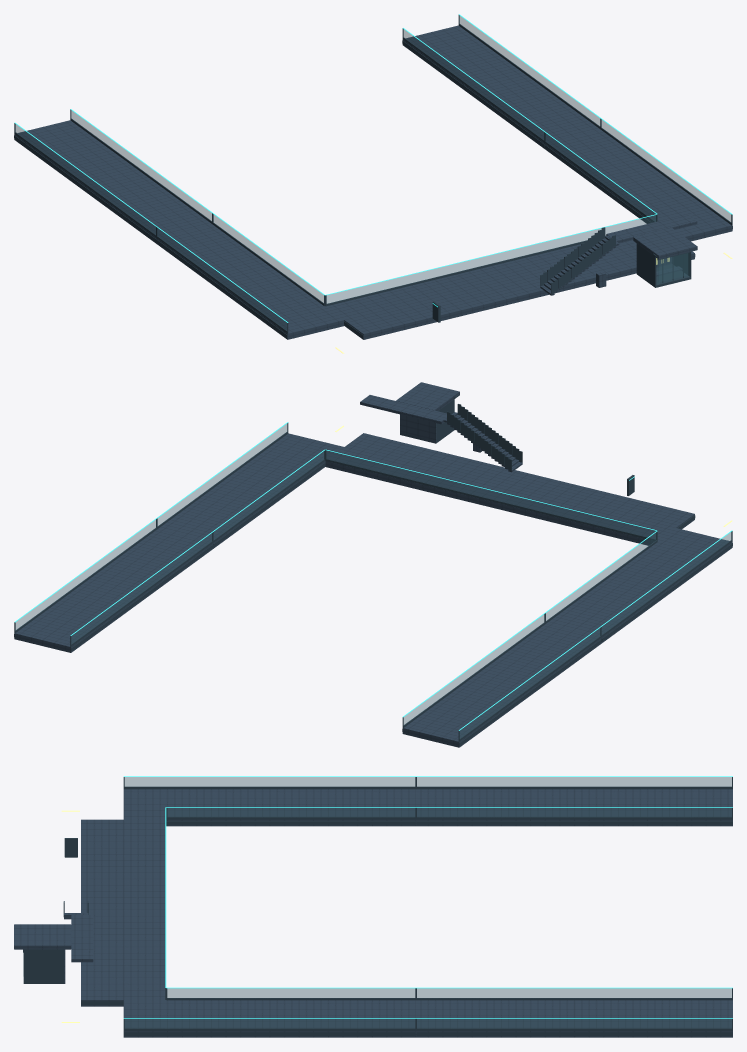
Rendered from v02-detailed-00-05-coffered.glb.
The picture shows the model from 3 angles, top to bottom: view 1: azimuth 30°, elevation 25°; view 2: azimuth 150°, elevation 25°; view 3: azimuth 270°, elevation 25°; orthographic projection. The views are drawn at different scales.
Parts seen in each view (by area): view 1: v02-detailed-00-05-coffered; view 2: v02-detailed-00-05-coffered; view 3: v02-detailed-00-05-coffered.
Part boxes in pixels (box(x1,y1,x2,y2)): v02-detailed-00-05-coffered: box(14, 14, 732, 353); v02-detailed-00-05-coffered: box(14, 382, 732, 747); v02-detailed-00-05-coffered: box(14, 776, 732, 1037).
Size of the model in its own units: 47.1 by 5.16 by 59.
5 materials, 1 textured.
